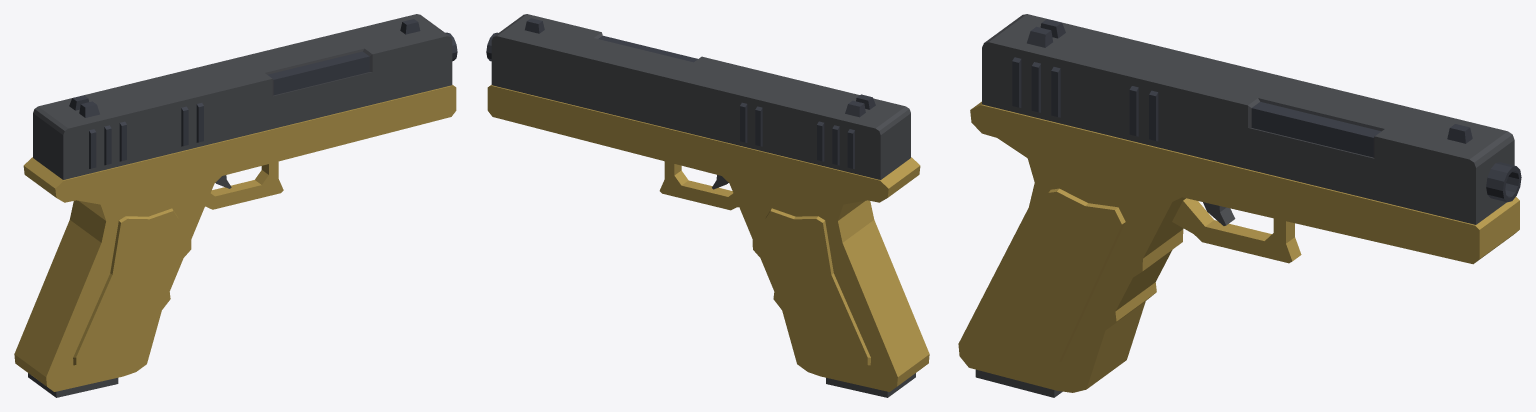
The model's file is pistol.fbx.
3 views of the same model, side by side, from view 1: azimuth 30°, elevation 25°; view 2: azimuth 150°, elevation 25°; view 3: azimuth 330°, elevation 25° (orthographic). The views are drawn at different scales.
Parts seen in each view (by area): view 1: Plane; view 2: Plane; view 3: Plane.
Boxes of the visible parts, left/top/right/bottom form: Plane: left=14, top=14, right=457, bottom=397; Plane: left=486, top=14, right=929, bottom=397; Plane: left=958, top=14, right=1521, bottom=397.
Size of the model in its own units: 2.73 by 1.72 by 0.405.
